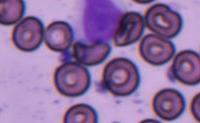L: (80, 0, 126, 44)
